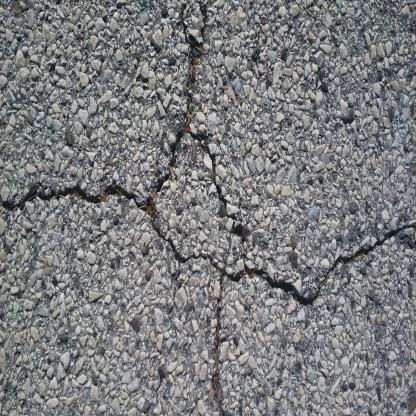Cracks: (0, 168, 415, 312), (141, 2, 236, 229), (207, 211, 246, 416)
